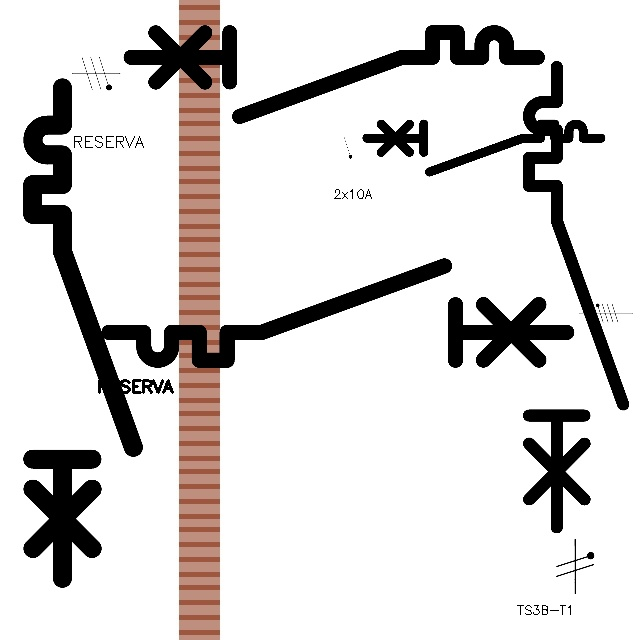interruptor_termomagnetico: (20, 75, 146, 591), (517, 55, 635, 539), (97, 254, 579, 372), (120, 22, 548, 126), (360, 118, 606, 178)
